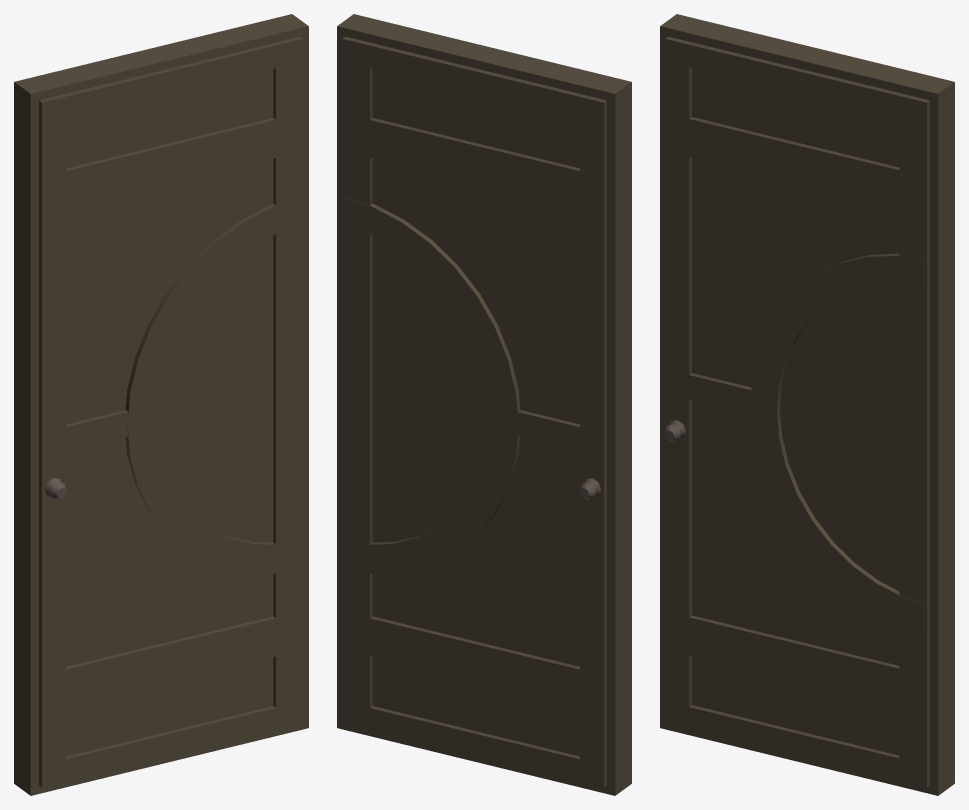
The picture shows the model from 3 angles, left to right: view 1: azimuth 30°, elevation 25°; view 2: azimuth 150°, elevation 25°; view 3: azimuth 330°, elevation 25°; orthographic projection.
Parts seen in each view (by area): view 1: Door_3_Cube.017; view 2: Door_3_Cube.017; view 3: Door_3_Cube.017.
Part boxes in pixels (box(x1,y1,x2,y2)): Door_3_Cube.017: box(14, 14, 308, 795); Door_3_Cube.017: box(337, 14, 631, 795); Door_3_Cube.017: box(660, 14, 954, 795).
Size of the model in its own units: 1.74 by 4.19 by 0.4159.
